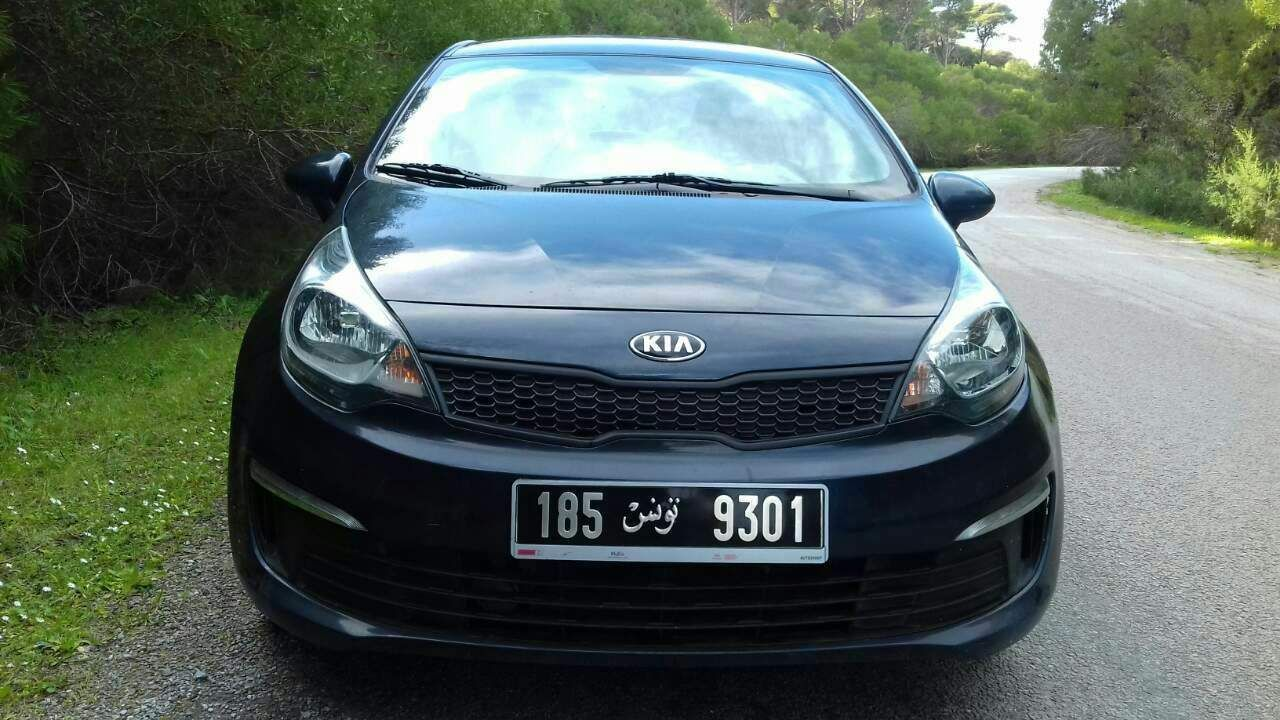LP: (509, 473, 832, 572)
